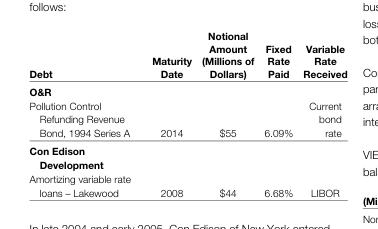table: (28, 29, 346, 197)
table column: (28, 29, 140, 197), (195, 29, 258, 197), (140, 29, 195, 197), (297, 29, 346, 197), (258, 29, 297, 197)
table column header: (28, 29, 346, 82)
table projected row header: (28, 141, 346, 171), (28, 82, 346, 97)
table row: (28, 29, 346, 82), (28, 97, 346, 141), (28, 141, 346, 171), (28, 171, 346, 197), (28, 82, 346, 97)
